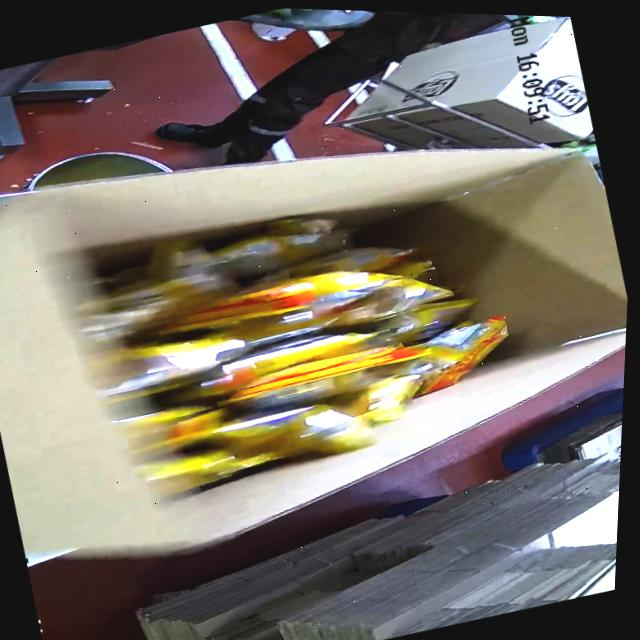SALTED: (96, 174, 500, 503)
